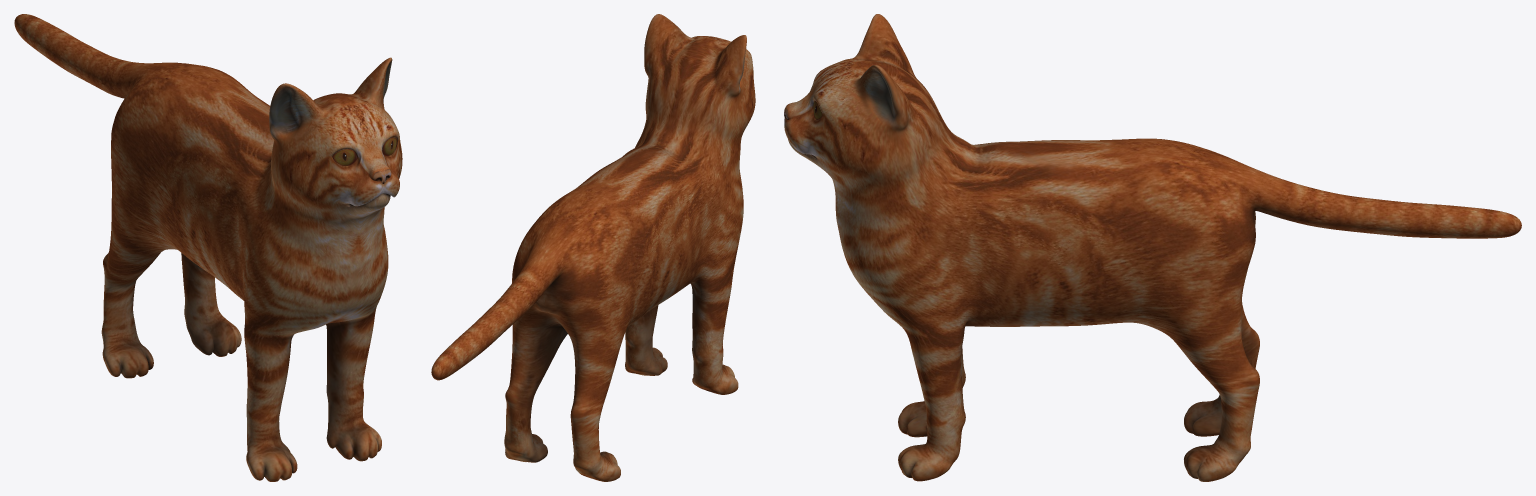
File: cat.glb
The picture shows the model from 3 angles, left to right: view 1: azimuth 30°, elevation 25°; view 2: azimuth 150°, elevation 25°; view 3: azimuth 270°, elevation 25°; orthographic projection. The views are drawn at different scales.
Parts seen in each view (by area): view 1: 12221_Cat_v1_l3; view 2: 12221_Cat_v1_l3; view 3: 12221_Cat_v1_l3.
Boxes of the visible parts, box(x1,y1,x2,y2) form: 12221_Cat_v1_l3: box(14, 14, 402, 481); 12221_Cat_v1_l3: box(431, 14, 755, 481); 12221_Cat_v1_l3: box(784, 14, 1521, 481).
Bounding box in the file's own units: 2.93 × 8.77 × 14.19.
Materials: 1 (1 with a texture image).
